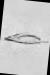D21: (1, 0, 50, 74)
